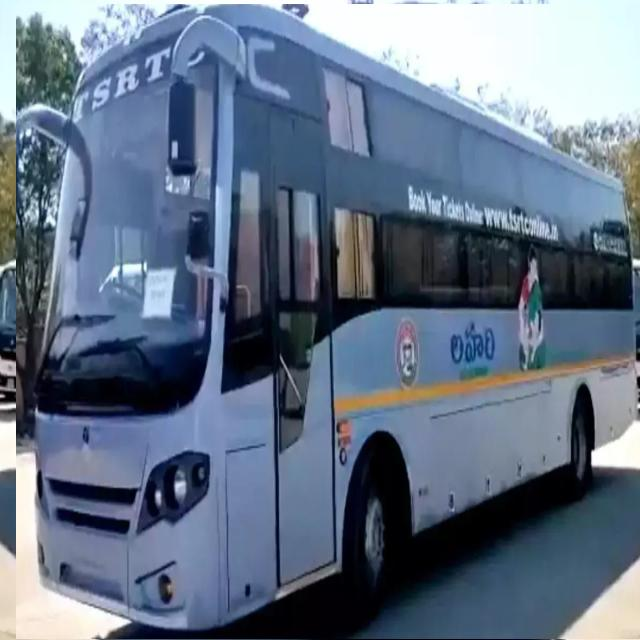bus: (16, 5, 640, 640)
